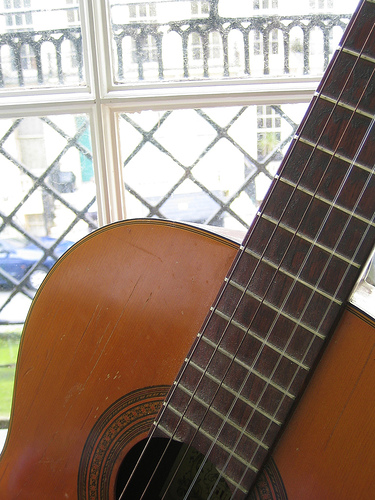guitar: (2, 1, 373, 500)
